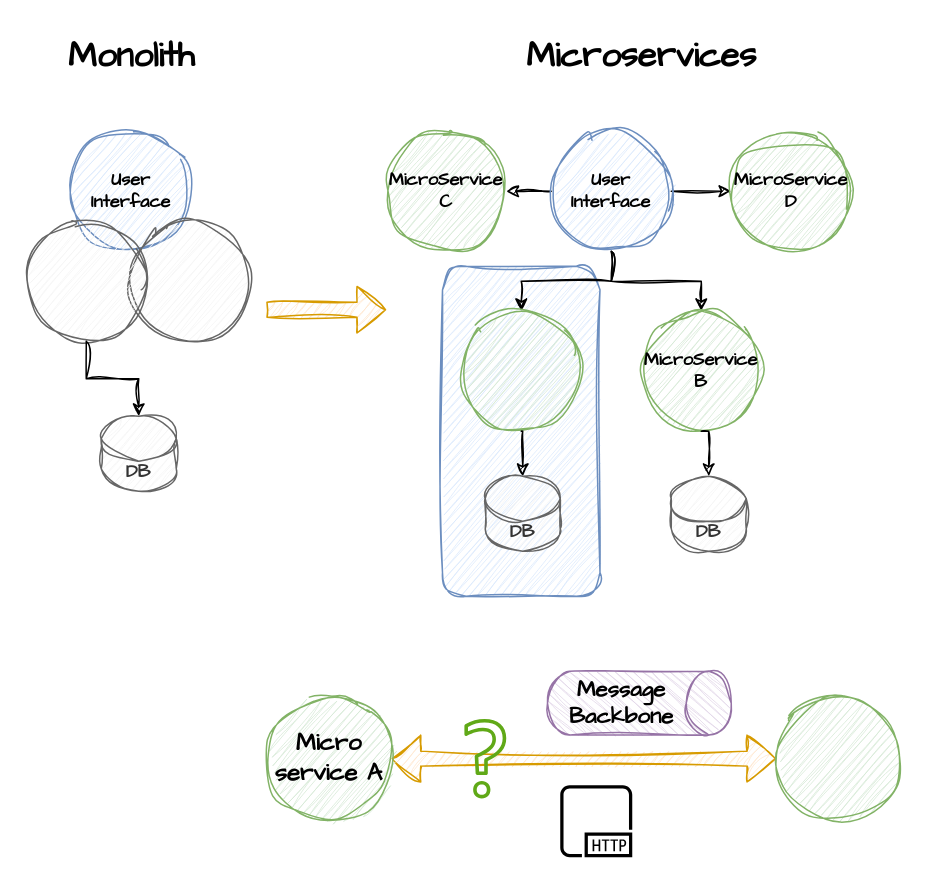
This 929x893 diagram has some shape labels left out. Here are the shapes that lost their labels. From the top down, the box of each, then its label:
(25, 220, 146, 341): Data Access Layer
(130, 220, 251, 341): Business Logic A+B+C+D
(460, 310, 581, 431): MicroService A
(441, 265, 600, 596): Boundary
(775, 694, 902, 821): Micro service B
